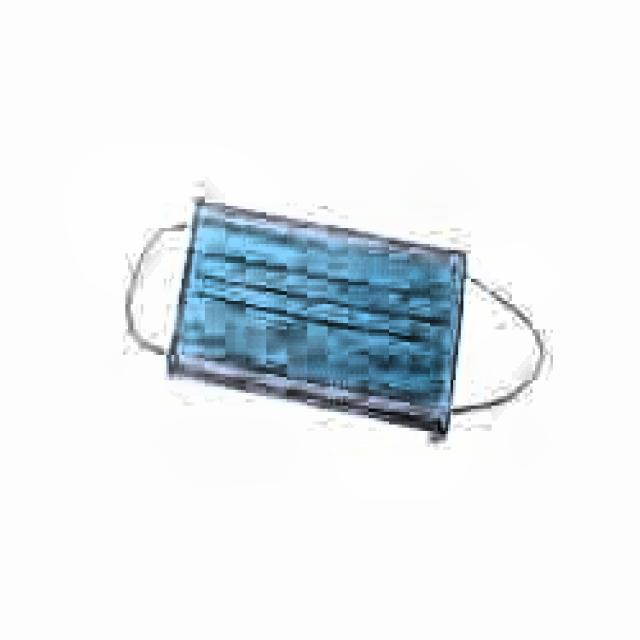trash: (162, 189, 469, 443)
